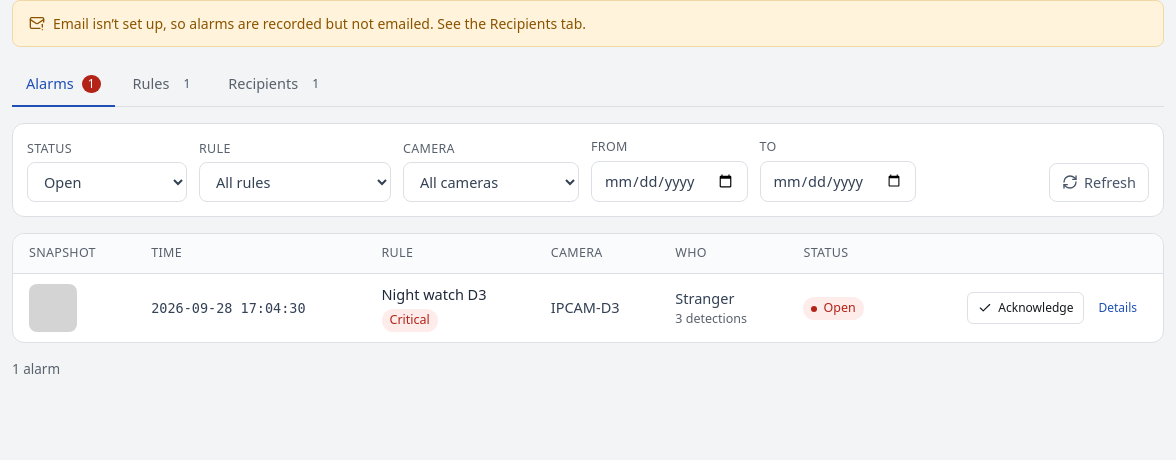
Test: AlarmsView › disables the test email until SMTP is set up
Click the tab "Recipients 1".
click(277, 85)  # box [214,63,339,107]
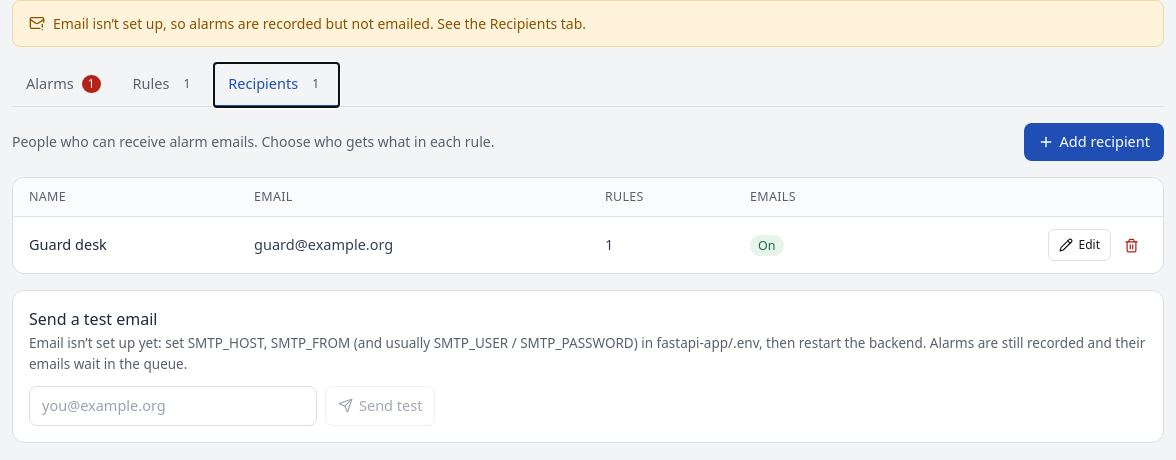
Expected: the text "guard@example.org" is shown, [238,217,589,273]
Expected: the button "Send test" is disabled, [325,386,435,426]
